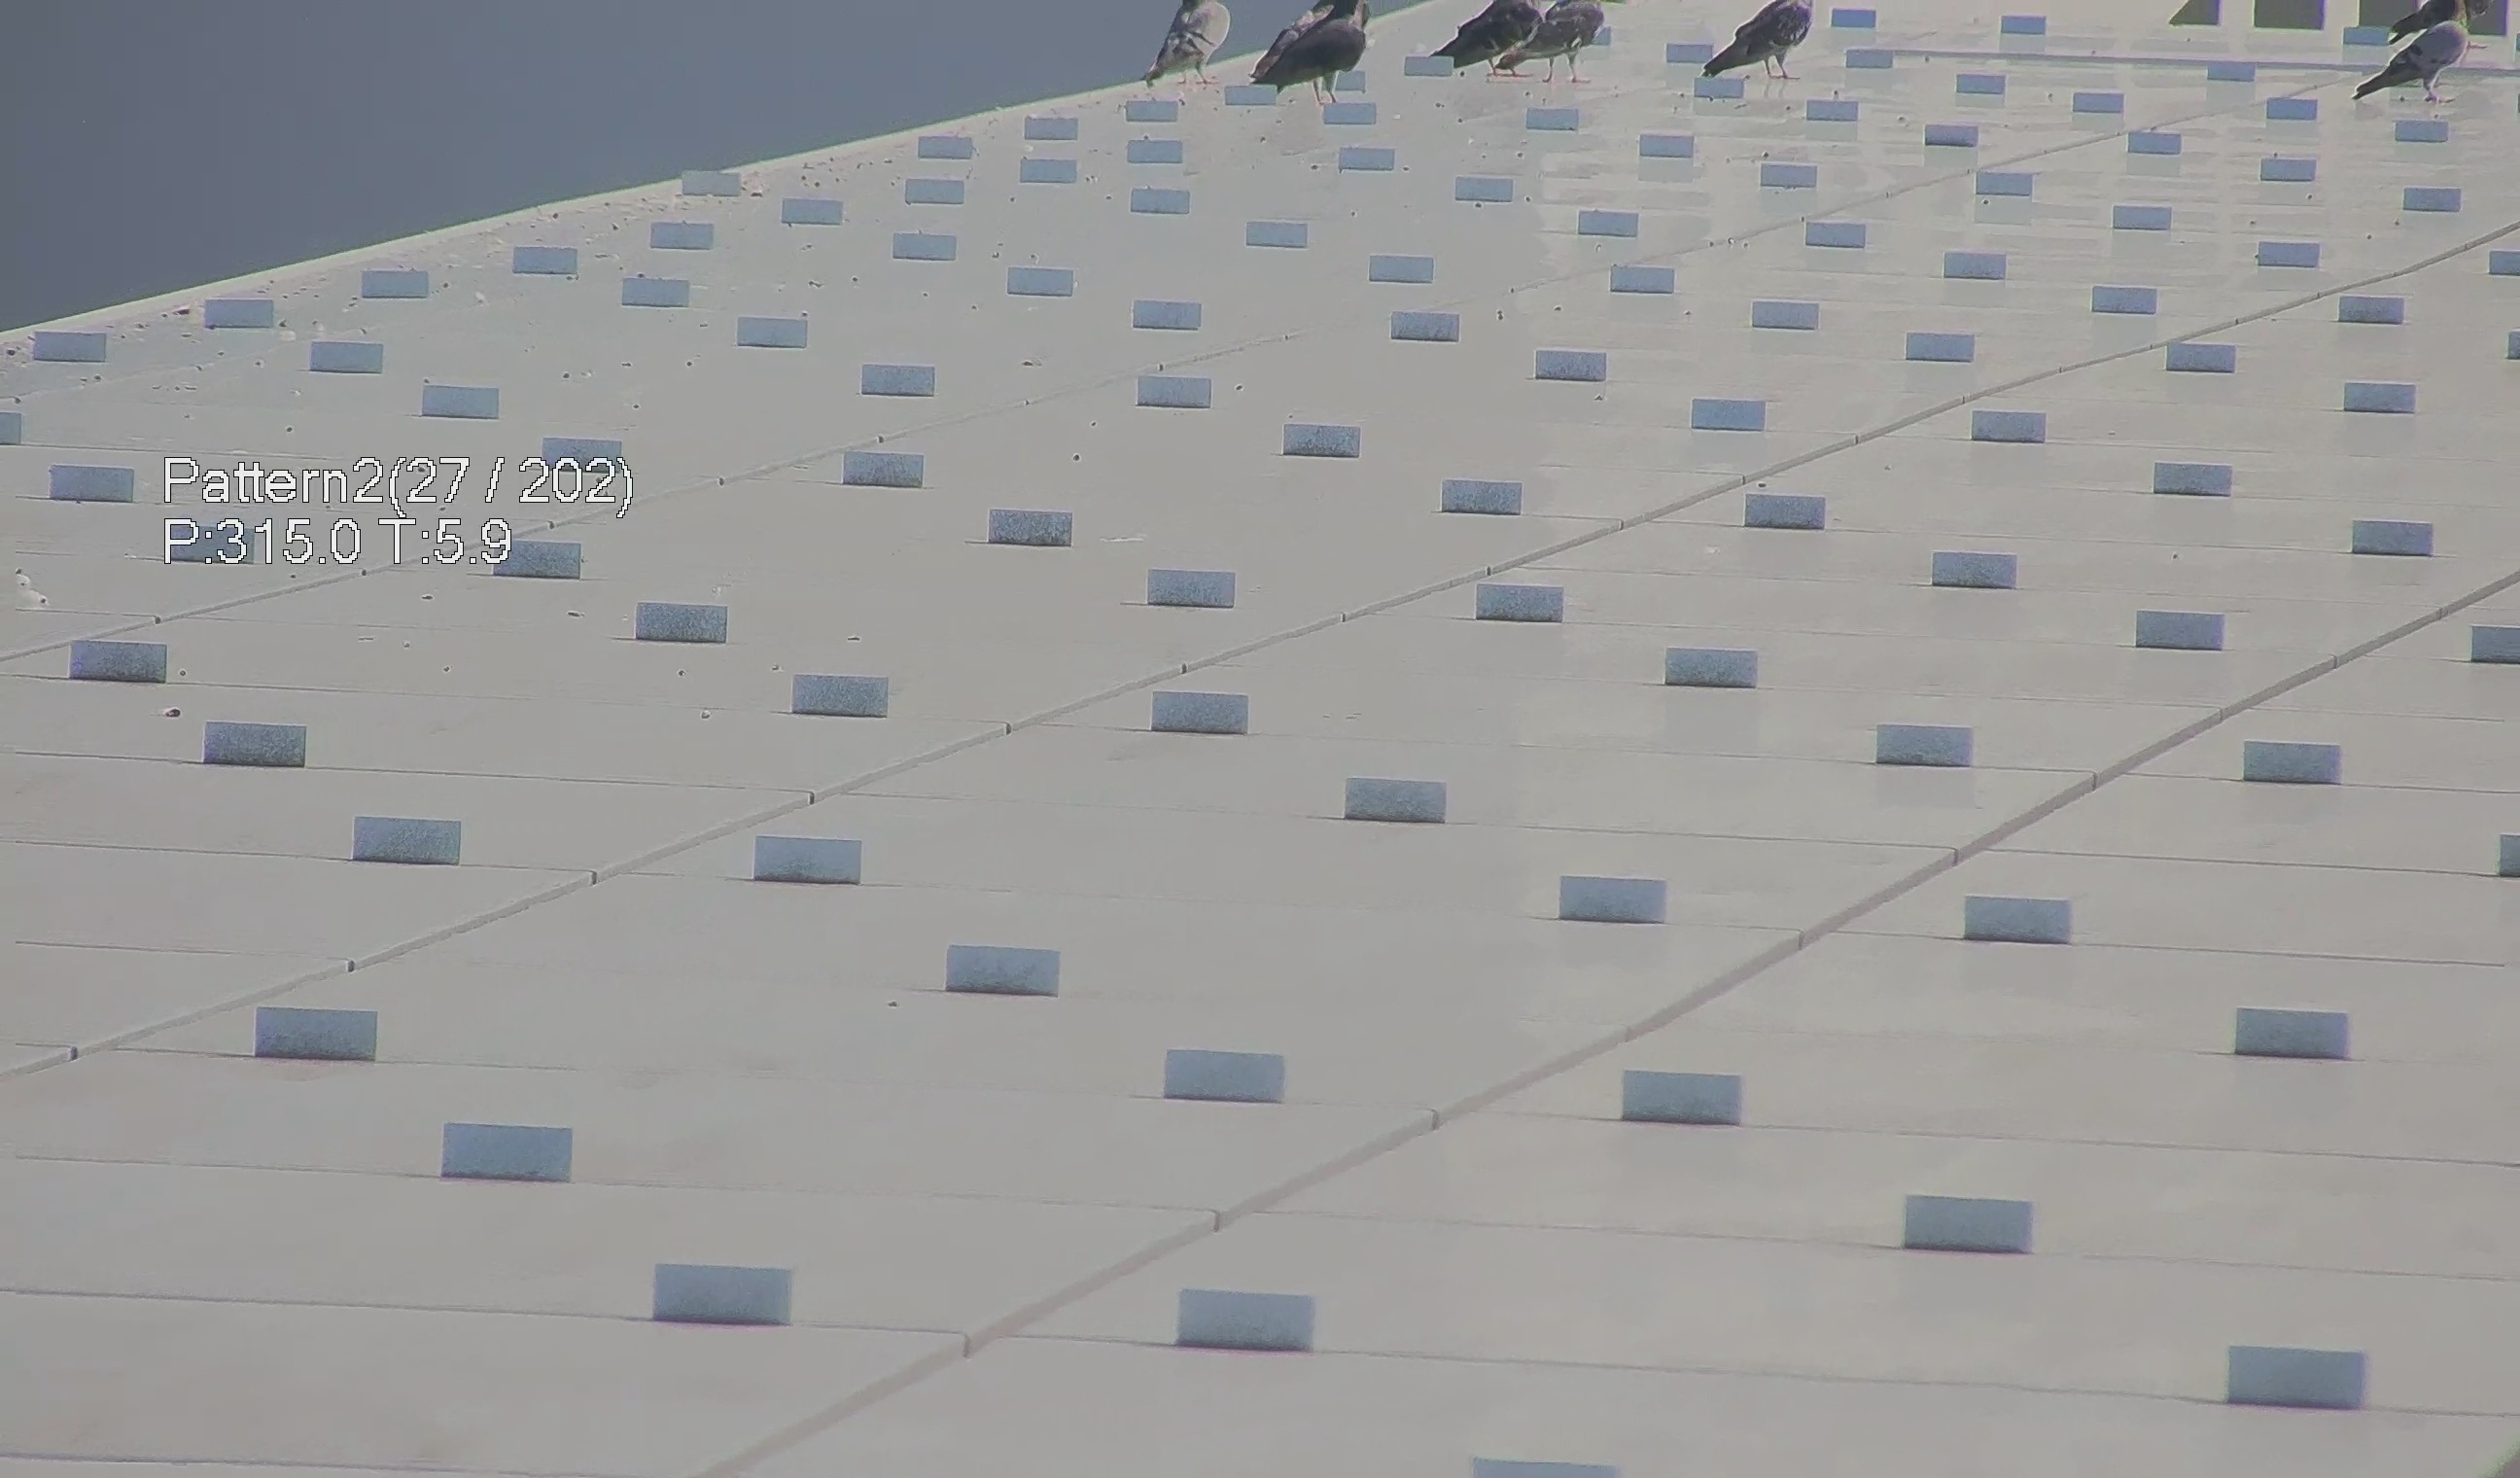Pigeon: (1243, 2, 1375, 107), (2360, 2, 2485, 113), (1412, 2, 1532, 100), (1502, 2, 1609, 99), (1701, 2, 1815, 88), (1134, 2, 1235, 90)
